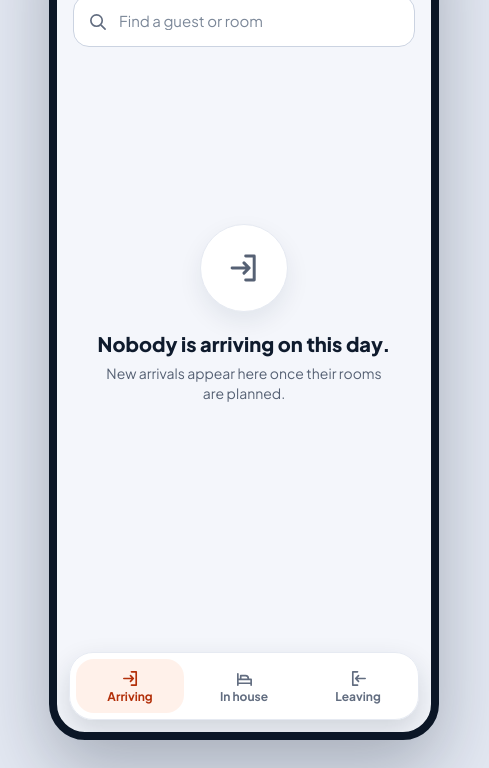
Scenario: FrontDeskScreen › switches tabs and searches by guest or room
(page scrolled)
Expected: the heading "Nobody is arriving on this day." is shown, [98, 330, 390, 356]
Click the button "In house" at (244, 686), box [190, 659, 298, 713]
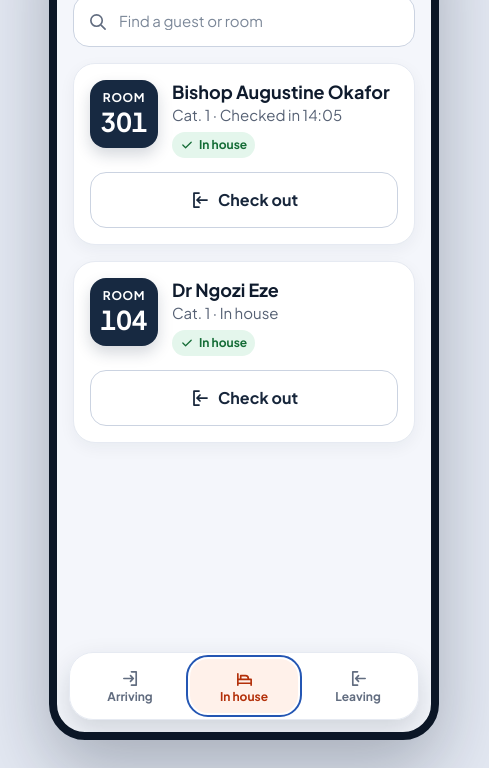
Expected: the text "Cat. 1 · Checked in 14:05" is shown, [172, 105, 342, 124]
Type "104" into the field labelled "Find a guest or room" at (258, 21), box [117, 10, 400, 32]
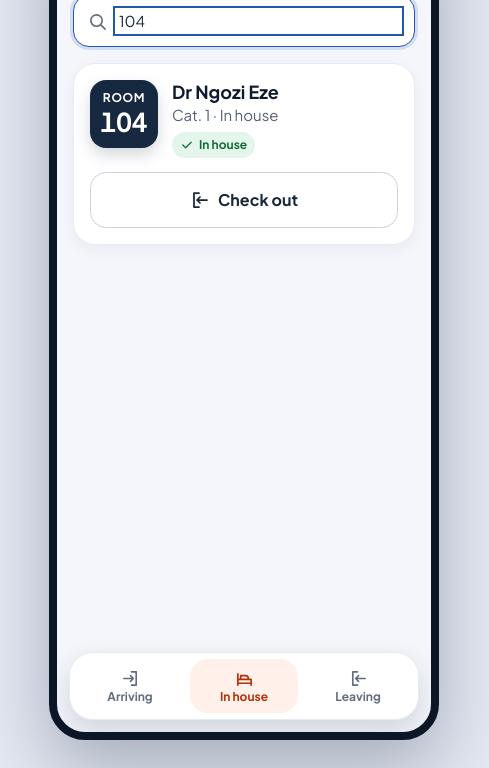
Expected: the element "Dr Ngozi Eze" is shown, [73, 63, 415, 245]
Expected: the heading "Bishop Augustine Okafor" is gone
Type "9" into the field named "Find a guest or room" at (258, 21), box [117, 10, 400, 32]
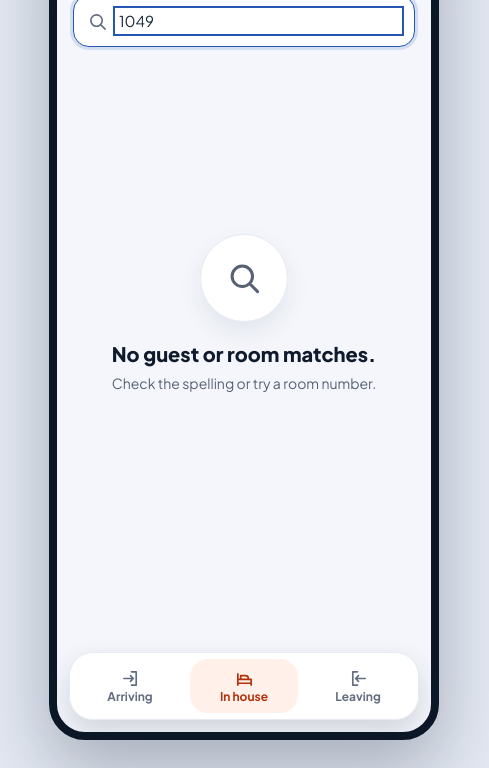
Expected: the heading "No guest or room matches." is shown, [112, 340, 376, 366]
